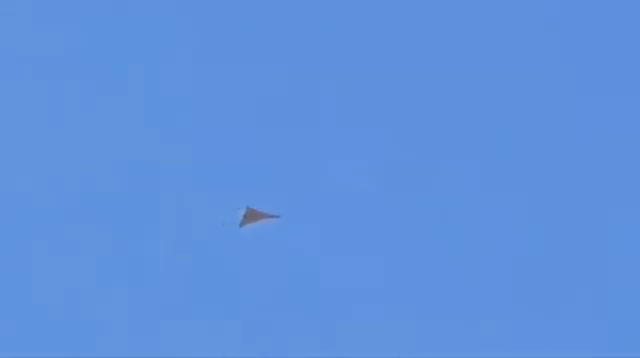shahed: (237, 204, 280, 229)
